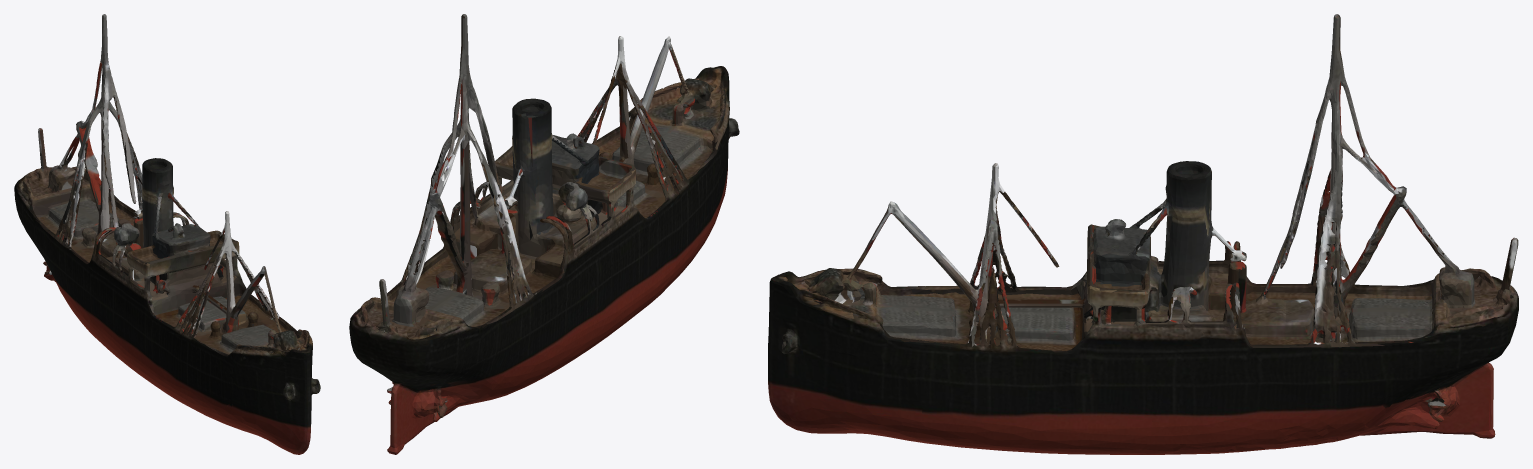
File: coastal_steamer.glb
3 renders of one model, left to right at view 1: azimuth 30°, elevation 25°; view 2: azimuth 150°, elevation 25°; view 3: azimuth 270°, elevation 25°, orthographic. The views are drawn at different scales.
Parts seen in each view (by area): view 1: HullBody; view 2: HullBody; view 3: HullBody.
Part boxes in pixels (left/top/right/bottom): HullBody: left=14, top=14, right=320, bottom=454; HullBody: left=349, top=14, right=739, bottom=454; HullBody: left=768, top=14, right=1518, bottom=454.
Bounding box in the file's own units: 10.48 × 31.1 × 50.
1 material, 1 textured.
